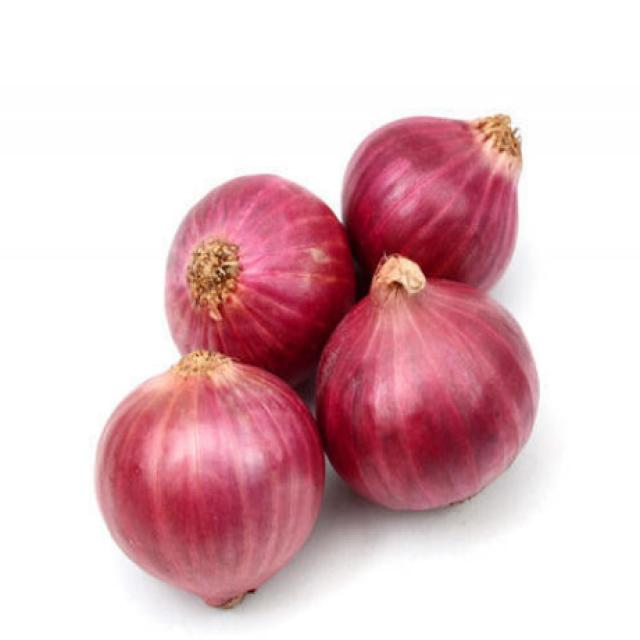healthy: (99, 114, 537, 605), (96, 211, 539, 595), (102, 356, 314, 594), (319, 274, 532, 504), (165, 177, 347, 370), (346, 117, 514, 282), (321, 279, 418, 420), (144, 382, 243, 495), (196, 184, 310, 268), (321, 353, 382, 486)
